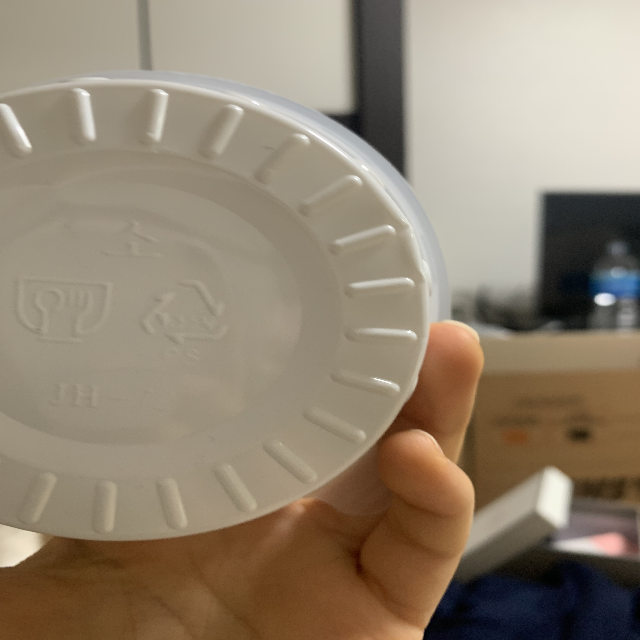ps: (141, 279, 230, 370)
